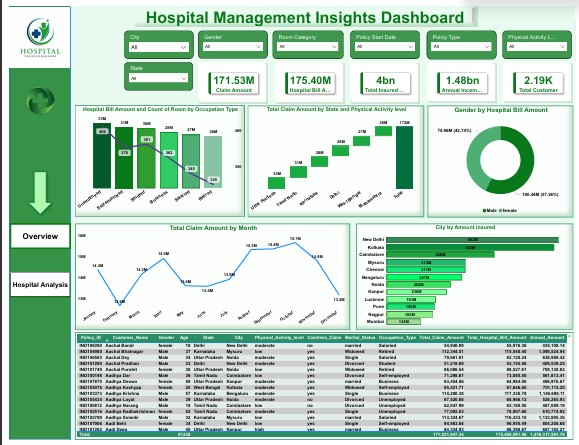

Layout of this report page (visuals, bound fields, positions):
{"tool":"powerbi","page":{"name":"Hospital Manaement Insights Dashborad","canvas":[1700,1300],"ordinal":0},"visuals":[{"type":"slicer","fields":{"Values":["Health_data.physical_activity_level"]},"box":[1478.4,71.4,208.5,85],"z":0,"group":"g2"},{"type":"slicer","fields":{"Values":["Health_data.state"]},"box":[342.9,165.7,207.1,85.7],"z":0},{"type":"cardVisual","fields":{"Data":["Sum(Health_data.total_claim_amount)"]},"box":[565.7,165.7,211,125.5],"z":0,"group":"g1"},{"type":"slicer","fields":{"Values":["Health_data.policy_type"]},"box":[1252.2,71.4,208.6,85.7],"z":1000,"group":"g2"},{"type":"group","id":"g1","title":"Group 1","box":[565.7,165.7,1125.7,125.7],"z":1000},{"type":"cardVisual","fields":{"Data":["Sum(Health_data.hospital_bill_amount)"]},"box":[795.5,165.7,211,125.5],"z":1000,"group":"g1"},{"type":"group","id":"g2","title":"Group 2","box":[342.9,71.4,1342.9,85.7],"z":2000},{"type":"slicer","fields":{"Values":["Health_data.room_category"]},"box":[789.3,71.4,212.9,85],"z":2000,"group":"g2"},{"type":"cardVisual","fields":{"Data":["Sum(Health_data.sum_insured)"]},"box":[1021.4,165.7,211,125.5],"z":2000,"group":"g1"},{"type":"textbox","box":[378.3,0,1025,60],"z":3000},{"type":"slicer","fields":{"Values":["Health_data.city"]},"box":[342.9,71.4,207.5,85],"z":3000,"group":"g2"},{"type":"cardVisual","fields":{"Data":["Sum(Health_data.annual_income_Amount)"]},"box":[1253.1,165.7,211,125],"z":3000,"group":"g1"},{"type":"shape","box":[0,0,182,1300],"z":4000},{"type":"slicer","fields":{"Values":["Health_data.gender"]},"box":[565,71.4,208.6,84.3],"z":4000,"group":"g2"},{"type":"cardVisual","fields":{"Data":["CountNonNull(Health_data.policy_id)"]},"box":[1480.9,165.7,211,125],"z":4000,"group":"g1"},{"type":"slicer","fields":{"Values":["Health_data.policy_start_date"]},"box":[1022.2,71.4,208.6,85],"z":5000,"group":"g2"},{"type":"lineStackedColumnComboChart","title":"Hospital Bill Amount and Count of Room by Occupation Type","fields":{"Category":["Health_data.occupation_type"],"Y":["Sum(Health_data.hospital_bill_amount)"],"Y2":["CountNonNull(Health_data.room_category)"]},"box":[195,295,510,335],"z":5000},{"type":"lineChart","title":"Total Claim Amount by Month","fields":{"Y":["Sum(Health_data.total_claim_amount)"],"Category":["Health_data.policy_start_date.Variation.Date Hierarchy.Month"]},"box":[196,650,826,320],"z":6000},{"type":"donutChart","title":"Gender by Hospital Bill Amount","fields":{"Category":["Health_data.gender"],"Y":["Sum(Health_data.hospital_bill_amount)"]},"box":[1254,296,438,336],"z":7000},{"type":"barChart","title":"City by Amount insured ","fields":{"Y":["Sum(Health_data.sum_insured)"],"Category":["Health_data.city"]},"box":[1040,650,652,320],"z":8000},{"type":"waterfallChart","title":"Total Claim Amount by State and Physical Activity level","fields":{"Category":["Health_data.state"],"Y":["Sum(Health_data.total_claim_amount)"]},"box":[714,296,530,335],"z":9000},{"type":"tableEx","fields":{"Values":["Health_data.policy_id","Health_data.customer_name","Health_data.gender","Sum(Health_data.age)","Health_data.state","Health_data.city","Health_data.physical_activity_level","Health_data.cashless_claim","Health_data.marital_status","Health_data.occupation_type","Sum(Health_data.total_claim_amount)","Sum(Health_data.hospital_bill_amount)"]},"box":[196,976,1496,324],"z":10000},{"type":"image","box":[0,0,181.7,183.3],"z":11000},{"type":"image","box":[0,182,182,212],"z":12000},{"type":"shape","box":[0,650,182,76],"z":13000},{"type":"shape","box":[46,486,90,146],"z":14000},{"type":"shape","box":[0,796,182,76],"z":15000}]}

Visuals, with their boxes on the page's 1700x1300 design canvas (x1, y1, x2, y2). These are canvas units, not pixel positions in the 579x445 screenshot, which may show the page scaled, cropped or inside an application window:
slicer - Health_data.physical_activity_level: <bbox>1478, 71, 1687, 156</bbox>
slicer - Health_data.state: <bbox>343, 166, 550, 251</bbox>
cardVisual - Sum(Health_data.total_claim_amount): <bbox>566, 166, 777, 291</bbox>
slicer - Health_data.policy_type: <bbox>1252, 71, 1461, 157</bbox>
"Group 1" group: <bbox>566, 166, 1691, 291</bbox>
cardVisual - Sum(Health_data.hospital_bill_amount): <bbox>796, 166, 1006, 291</bbox>
"Group 2" group: <bbox>343, 71, 1686, 157</bbox>
slicer - Health_data.room_category: <bbox>789, 71, 1002, 156</bbox>
cardVisual - Sum(Health_data.sum_insured): <bbox>1021, 166, 1232, 291</bbox>
textbox: <bbox>378, 0, 1403, 60</bbox>
slicer - Health_data.city: <bbox>343, 71, 550, 156</bbox>
cardVisual - Sum(Health_data.annual_income_Amount): <bbox>1253, 166, 1464, 291</bbox>
shape: <bbox>0, 0, 182, 1300</bbox>
slicer - Health_data.gender: <bbox>565, 71, 774, 156</bbox>
cardVisual - CountNonNull(Health_data.policy_id): <bbox>1481, 166, 1692, 291</bbox>
slicer - Health_data.policy_start_date: <bbox>1022, 71, 1231, 156</bbox>
"Hospital Bill Amount and Count of Room by Occupation Type" lineStackedColumnComboChart: <bbox>195, 295, 705, 630</bbox>
"Total Claim Amount by Month" lineChart: <bbox>196, 650, 1022, 970</bbox>
"Gender by Hospital Bill Amount" donutChart: <bbox>1254, 296, 1692, 632</bbox>
"City by Amount insured " barChart: <bbox>1040, 650, 1692, 970</bbox>
"Total Claim Amount by State and Physical Activity level" waterfallChart: <bbox>714, 296, 1244, 631</bbox>
tableEx - Health_data.policy_id x Health_data.customer_name: <bbox>196, 976, 1692, 1300</bbox>
image: <bbox>0, 0, 182, 183</bbox>
image: <bbox>0, 182, 182, 394</bbox>
shape: <bbox>0, 650, 182, 726</bbox>
shape: <bbox>46, 486, 136, 632</bbox>
shape: <bbox>0, 796, 182, 872</bbox>
